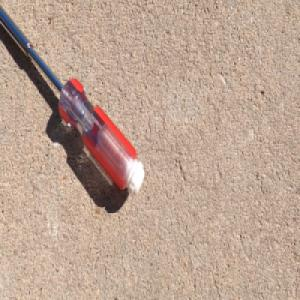Screwdriver: (0, 10, 145, 198)
